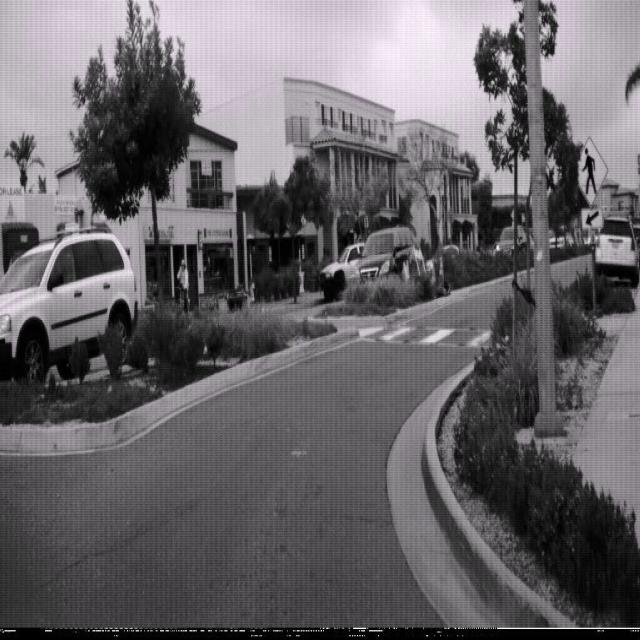pedestrianCrossing: (571, 135, 609, 208)
